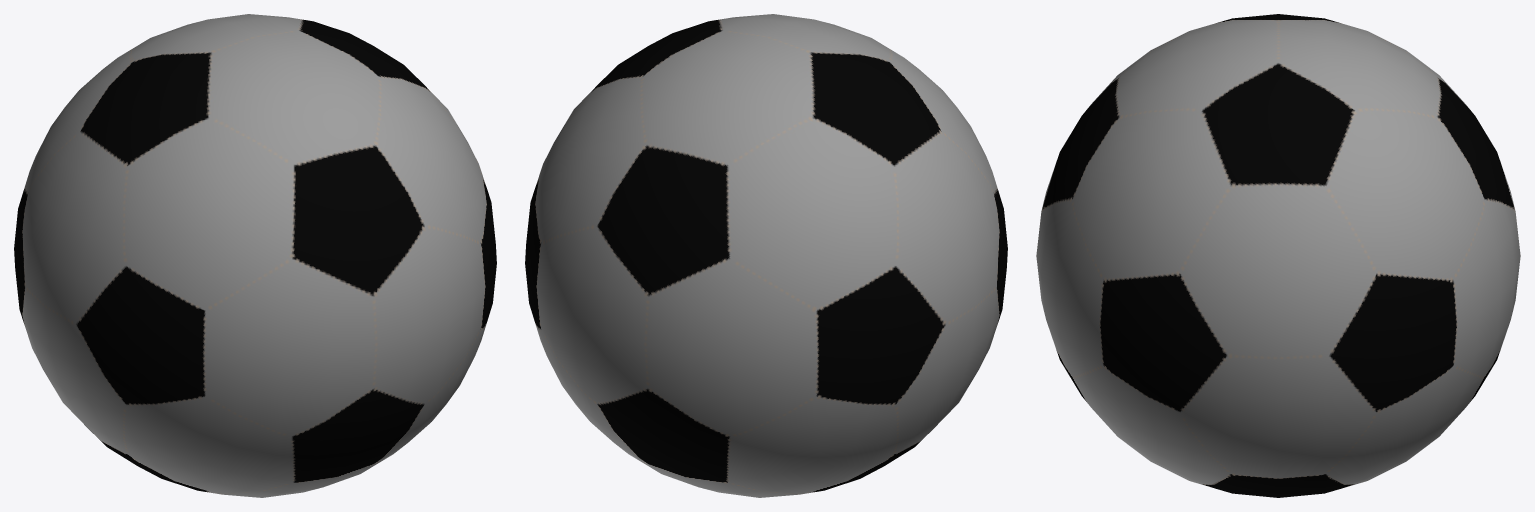
3 renders of one model, left to right at view 1: azimuth 30°, elevation 25°; view 2: azimuth 150°, elevation 25°; view 3: azimuth 270°, elevation 25°, orthographic.
Visible parts, largest first — view 1: Ball low; view 2: Ball low; view 3: Ball low.
Boxes of the visible parts, x1,y1,x2,y2 form: Ball low: (14,14,496,497); Ball low: (525,14,1007,497); Ball low: (1036,14,1520,497).
Size of the model in its own units: 0.2196 by 0.2196 by 0.2196.
Materials: 1 (1 with a texture image).
